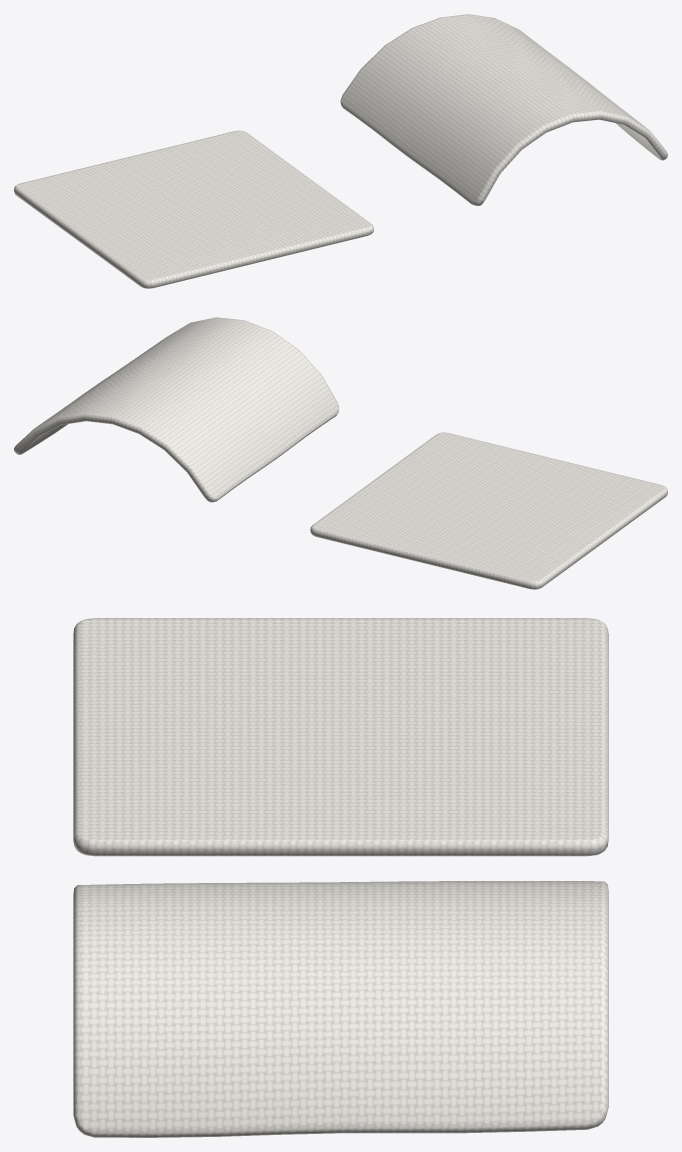
Rendered from FirstAid_Gauze.glb.
3 renders of one model, top to bottom at view 1: azimuth 30°, elevation 25°; view 2: azimuth 150°, elevation 25°; view 3: azimuth 270°, elevation 25°, orthographic. The views are drawn at different scales.
Visible parts, largest first — view 1: Gauze_Clean, Gauze_Applied; view 2: Gauze_Clean, Gauze_Applied; view 3: Gauze_Applied, Gauze_Clean.
Part boxes in pixels (bbox=[...]): Gauze_Clean: bbox=[14, 130, 373, 288]; Gauze_Applied: bbox=[340, 14, 667, 205]; Gauze_Clean: bbox=[310, 432, 667, 589]; Gauze_Applied: bbox=[14, 317, 338, 502]; Gauze_Applied: bbox=[73, 881, 608, 1137]; Gauze_Clean: bbox=[73, 618, 608, 856].
Size of the model in its own units: 0.2277 by 0.0295 by 0.1.
1 material, 1 textured.
